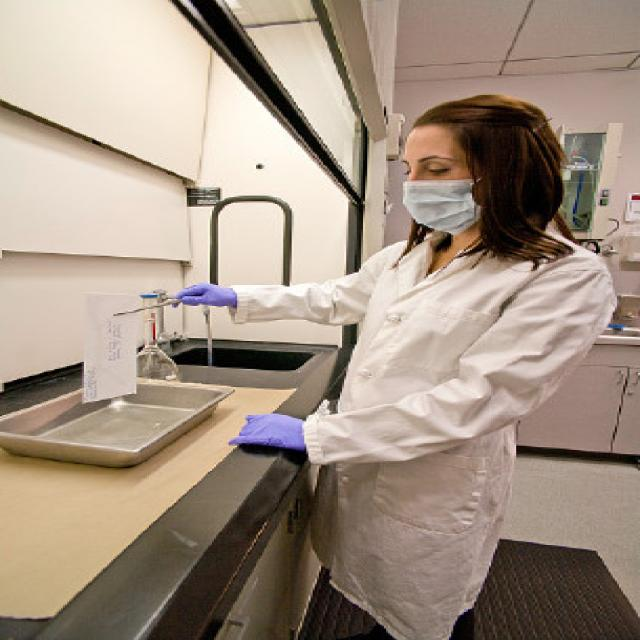mask: (401, 124, 480, 233)
